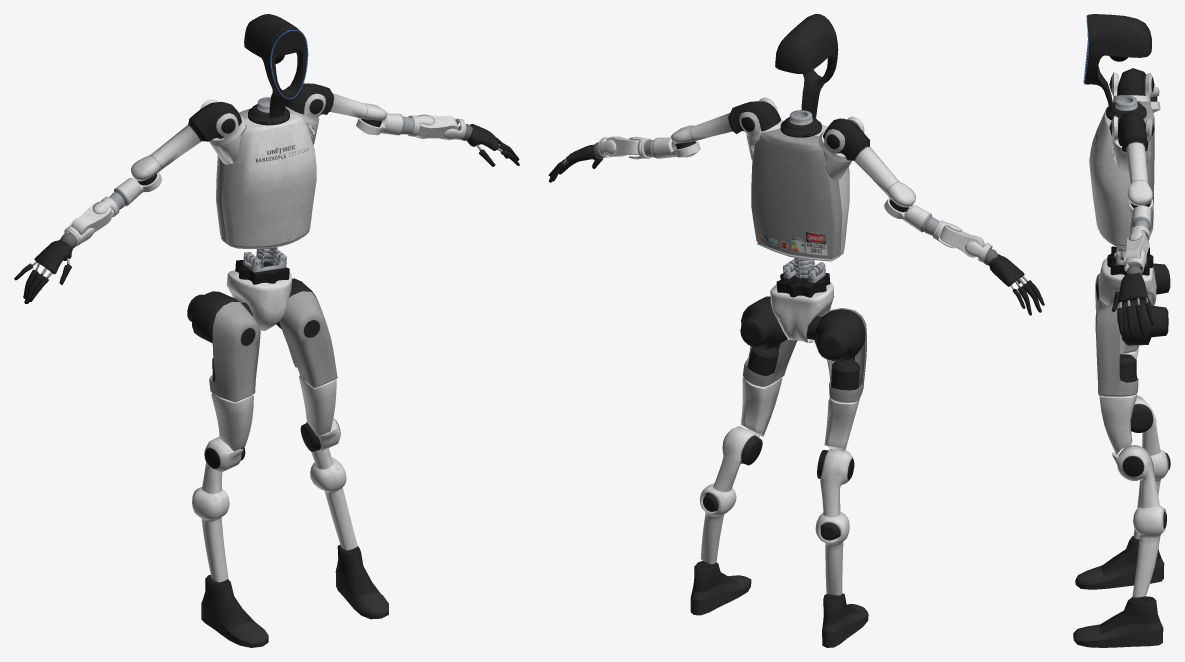
The model's file is bot.fbx.
3 renders of one model, left to right at view 1: azimuth 30°, elevation 25°; view 2: azimuth 150°, elevation 25°; view 3: azimuth 270°, elevation 25°, orthographic. The views are drawn at different scales.
Parts seen in each view (by area): view 1: android_0; view 2: android_0; view 3: android_0.
Part boxes in pixels (x1=…): android_0: x1=14, y1=14, x2=519, y2=647; android_0: x1=548, y1=14, x2=1044, y2=647; android_0: x1=1073, y1=14, x2=1170, y2=647.
Bounding box in the file's own units: 1.29 × 1.5 × 0.2254.
Materials: 4 (1 with a texture image).
